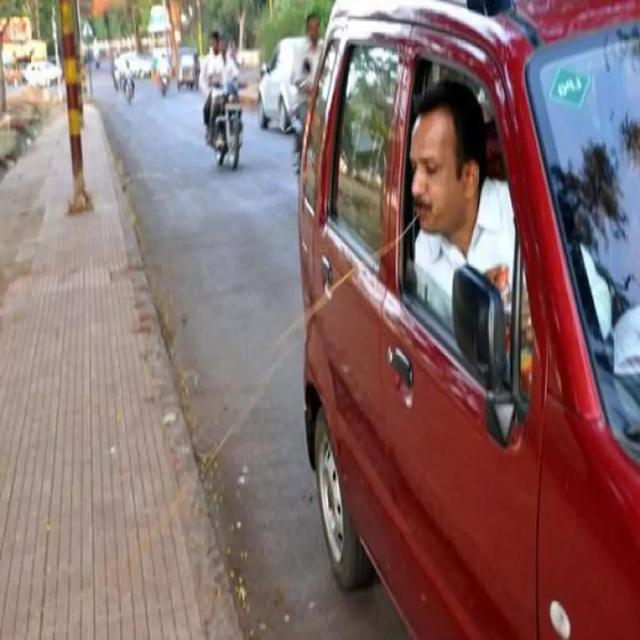Spitting: (340, 87, 517, 317)
